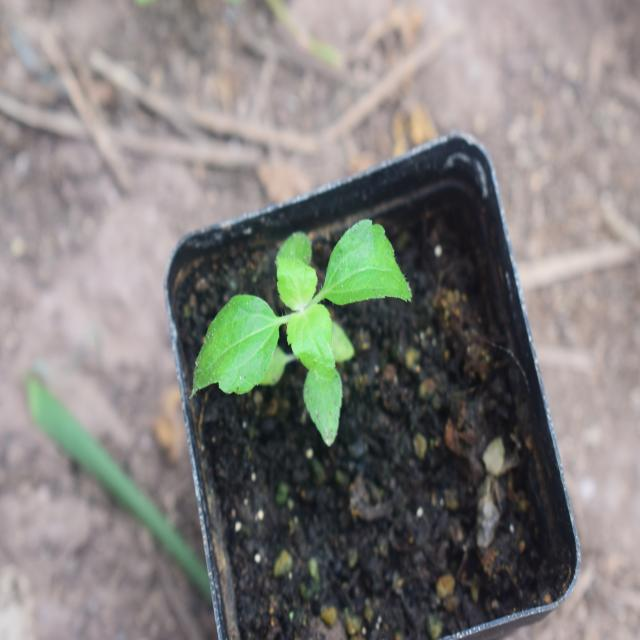billygoat_weed: (139, 178, 412, 461)
